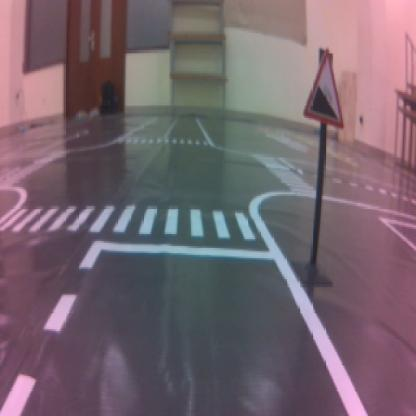charging station: (304, 49, 342, 127)
